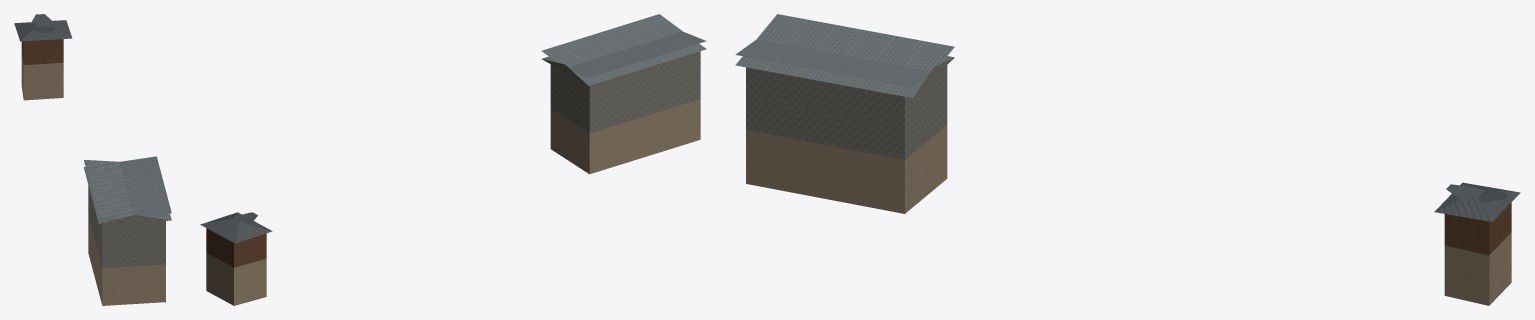
Rendered from bld_c35_-27_450.gltf.
The picture shows the model from 3 angles, left to right: view 1: azimuth 30°, elevation 25°; view 2: azimuth 150°, elevation 25°; view 3: azimuth 270°, elevation 25°; orthographic projection. The views are drawn at different scales.
Visible parts, largest first — view 1: bld_c35_-27_450; view 2: bld_c35_-27_450; view 3: bld_c35_-27_450.
Part boxes in pixels (box(x1,y1,x2,y2)): bld_c35_-27_450: box(14, 14, 171, 305); bld_c35_-27_450: box(200, 14, 706, 305); bld_c35_-27_450: box(735, 14, 1520, 305).
Bounding box in the file's own units: 30.67 × 13.5 × 67.06.
6 materials, 6 textured.
